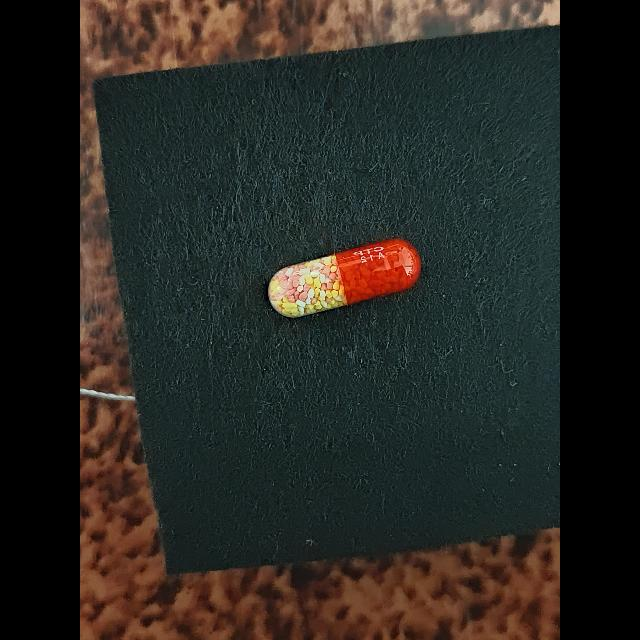Intact Capsule: (268, 239, 421, 317)
